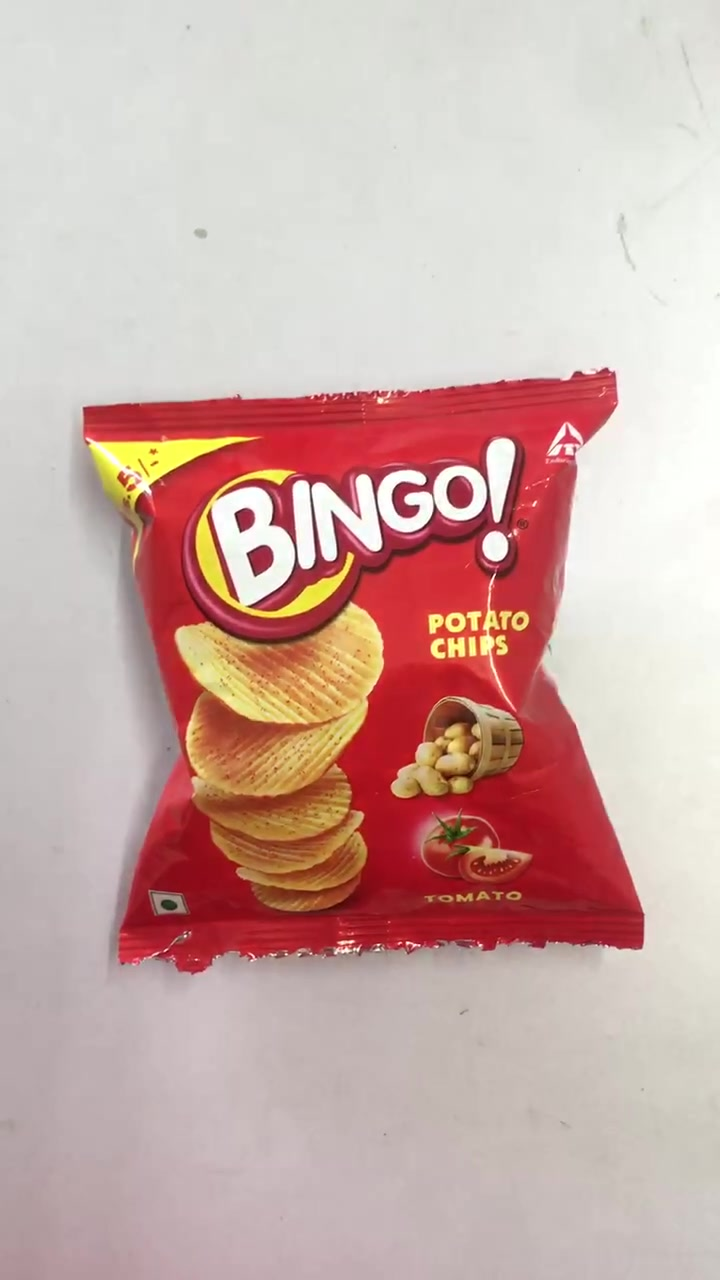Bingo: (101, 407, 644, 952)
